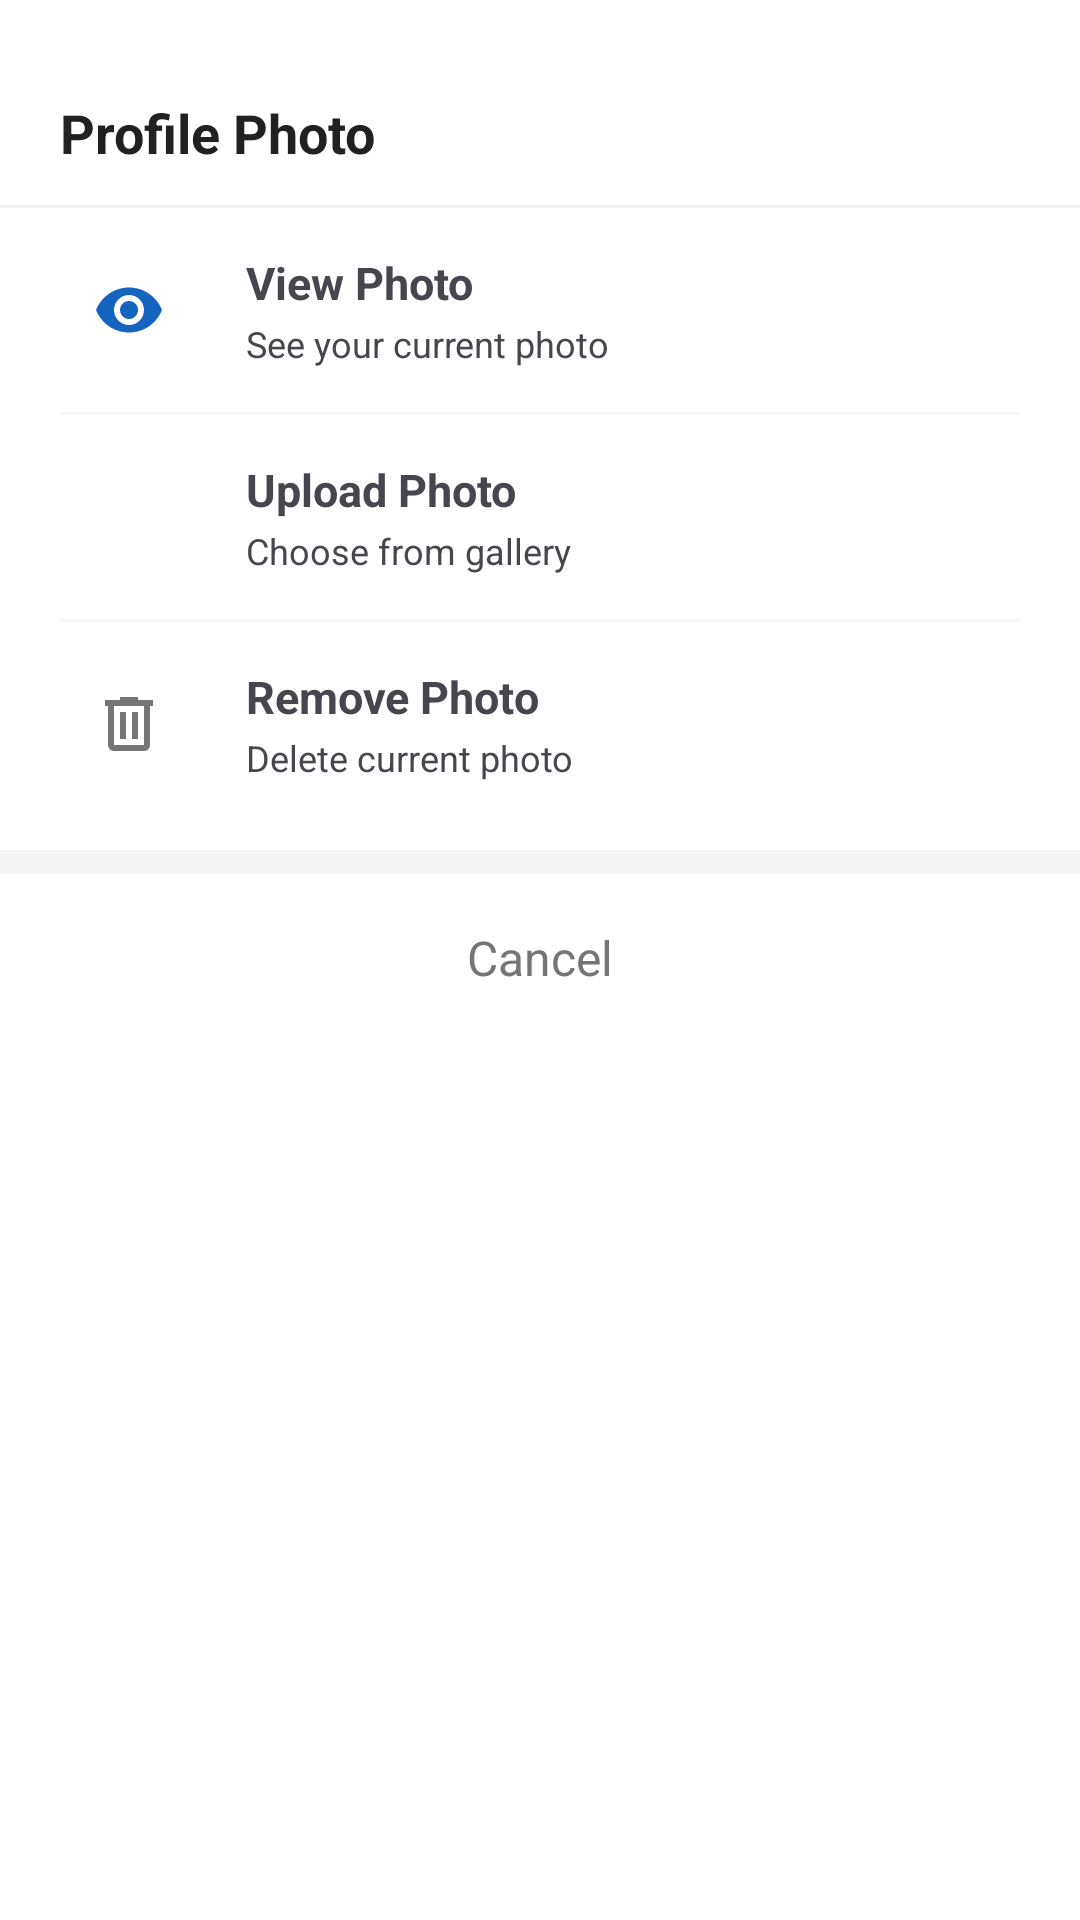

Screen size 1080px×1920px. Icon name, then its center in pixels as [x,y]:
visibility: [129,310]
